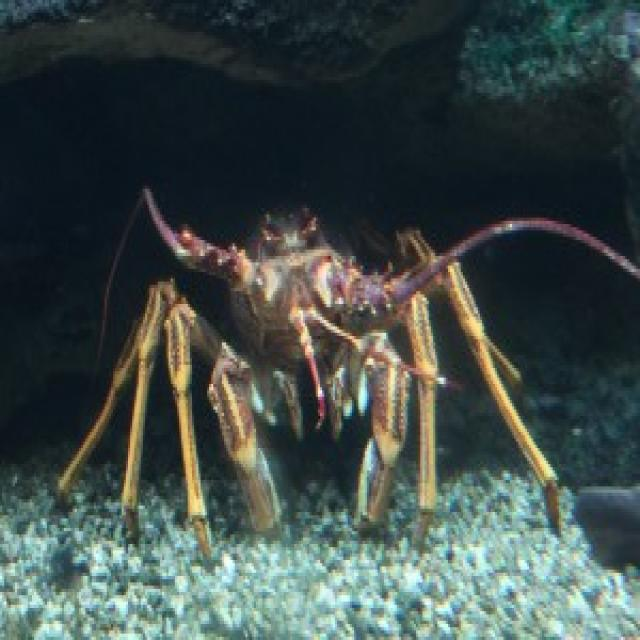lobsters: (72, 91, 575, 558)
